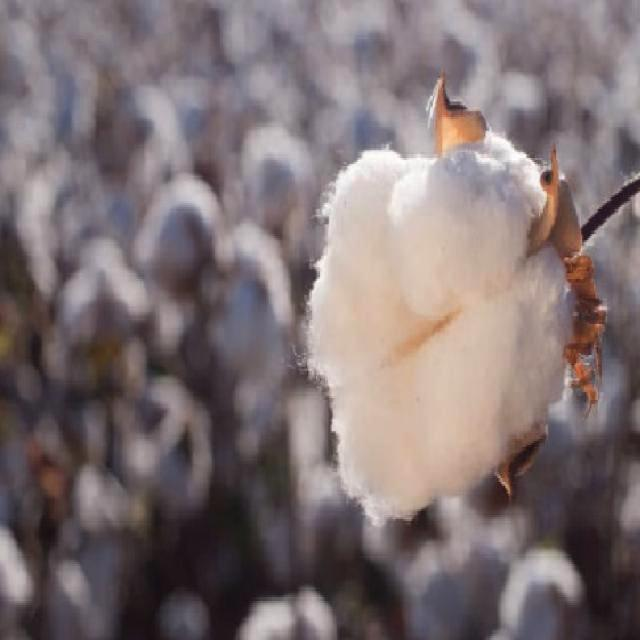Matured Cotton Boll: (308, 136, 584, 504)
